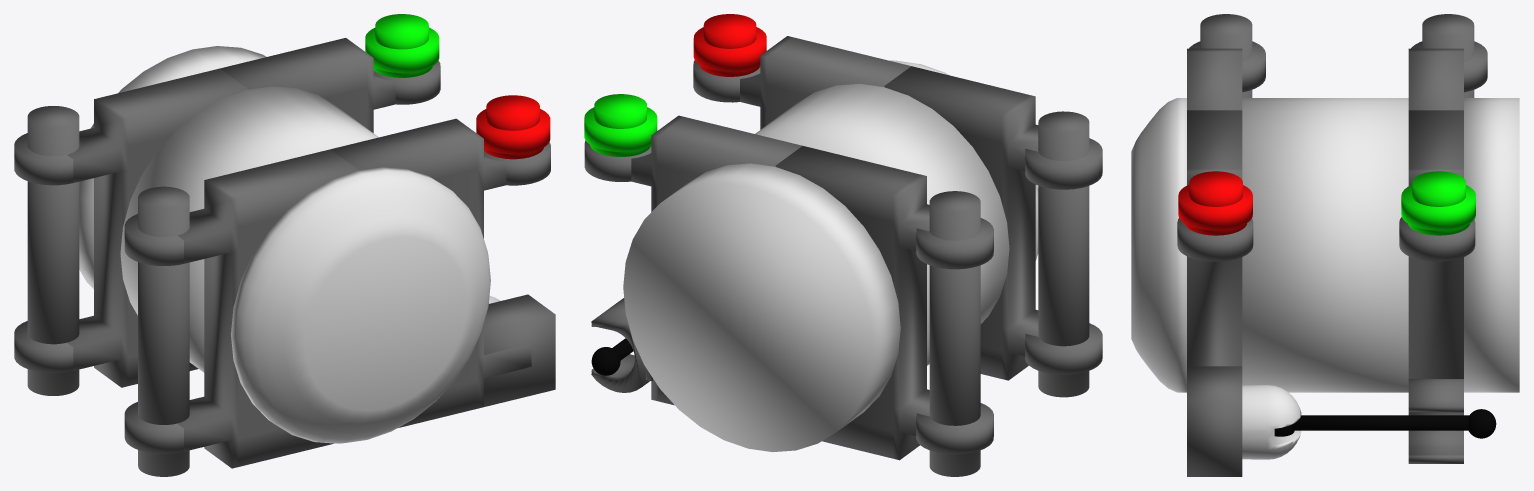
The model's file is minikit.fbx.
The picture shows the model from 3 angles, left to right: view 1: azimuth 30°, elevation 25°; view 2: azimuth 150°, elevation 25°; view 3: azimuth 270°, elevation 25°; orthographic projection.
Parts seen in each view (by area): view 1: Gray, White, Red, Green; view 2: Gray, White, Green, Red, Black; view 3: White, Gray, Green, Red, Black.
Boxes of the visible parts, left/top/right/bottom form: Gray: left=14, top=38, right=555, bottom=476; White: left=79, top=46, right=500, bottom=443; Red: left=476, top=95, right=550, bottom=159; Green: left=365, top=14, right=439, bottom=77; Gray: left=584, top=36, right=1102, bottom=476; White: left=623, top=60, right=1038, bottom=451; Green: left=584, top=94, right=657, bottom=156; Red: left=693, top=14, right=766, bottom=76; Black: left=591, top=338, right=633, bottom=375; White: left=1131, top=98, right=1519, bottom=459; Gray: left=1177, top=14, right=1487, bottom=476; Green: left=1401, top=171, right=1475, bottom=235; Red: left=1178, top=171, right=1252, bottom=235; Black: left=1274, top=409, right=1496, bottom=438.
Bounding box in the file's own units: 172 × 140 × 112.
